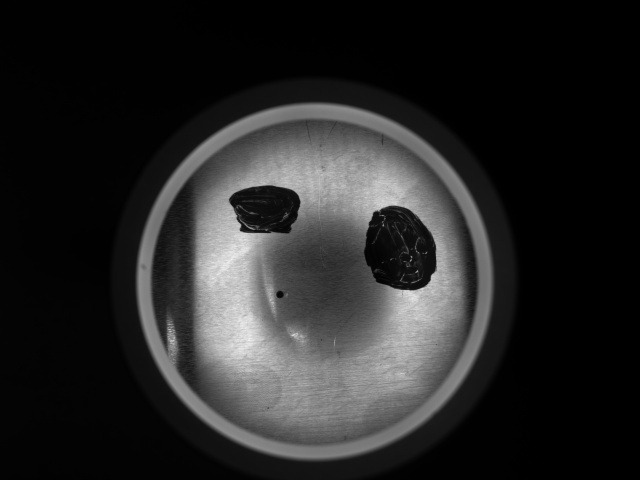zang_wu: (363, 205, 429, 286), (226, 183, 303, 236)
zhen_kong: (273, 287, 289, 301)
